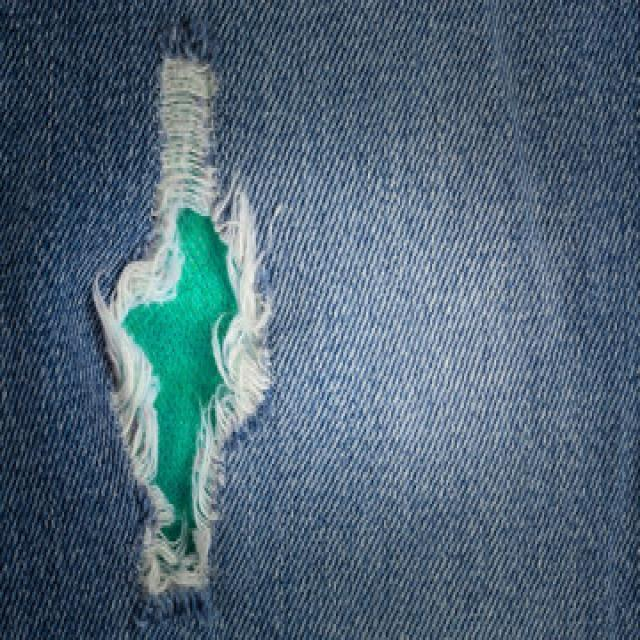Hole: (93, 49, 271, 596)
